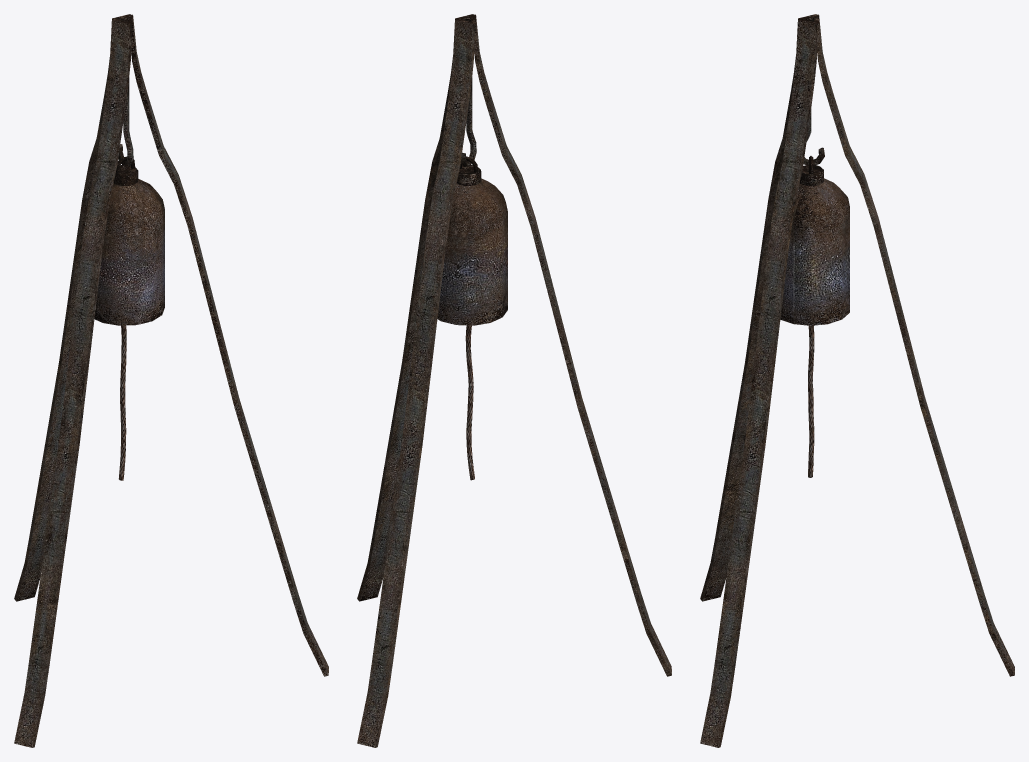
Rendered from Dell.FBX.
3 renders of one model, left to right at view 1: azimuth 30°, elevation 25°; view 2: azimuth 150°, elevation 25°; view 3: azimuth 270°, elevation 25°, orthographic.
Parts seen in each view (by area): view 1: Dell; view 2: Dell; view 3: Dell.
Boxes of the visible parts, x1,y1,x2,y2 form: Dell: (14,14,328,747); Dell: (357,14,671,747); Dell: (700,14,1014,747).
Size of the model in its own units: 83.64 by 166 by 72.41.
